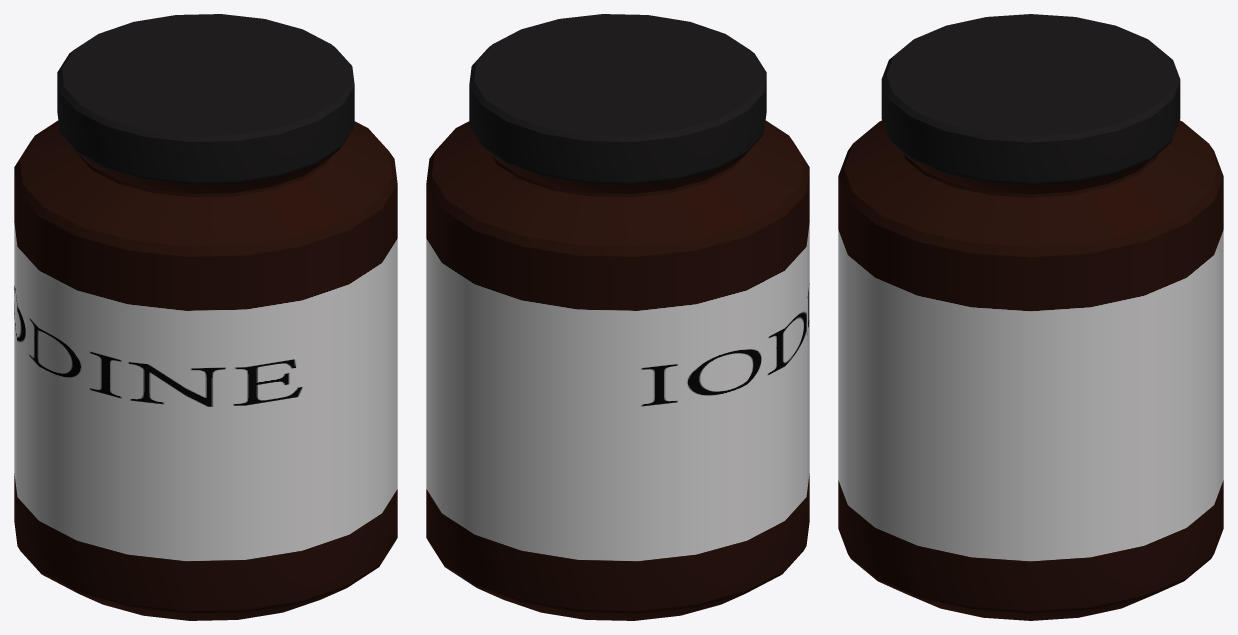
The model's file is Iodine.fbx.
The picture shows the model from 3 angles, left to right: view 1: azimuth 30°, elevation 25°; view 2: azimuth 150°, elevation 25°; view 3: azimuth 270°, elevation 25°; orthographic projection.
Parts seen in each view (by area): view 1: pCylinder1; view 2: pCylinder1; view 3: pCylinder1.
Part boxes in pixels (x1=…): pCylinder1: x1=14, y1=14, x2=397, y2=620; pCylinder1: x1=426, y1=14, x2=809, y2=620; pCylinder1: x1=838, y1=14, x2=1223, y2=620.
Bounding box in the file's own units: 10 × 13.78 × 10.
Materials: 1 (1 with a texture image).
